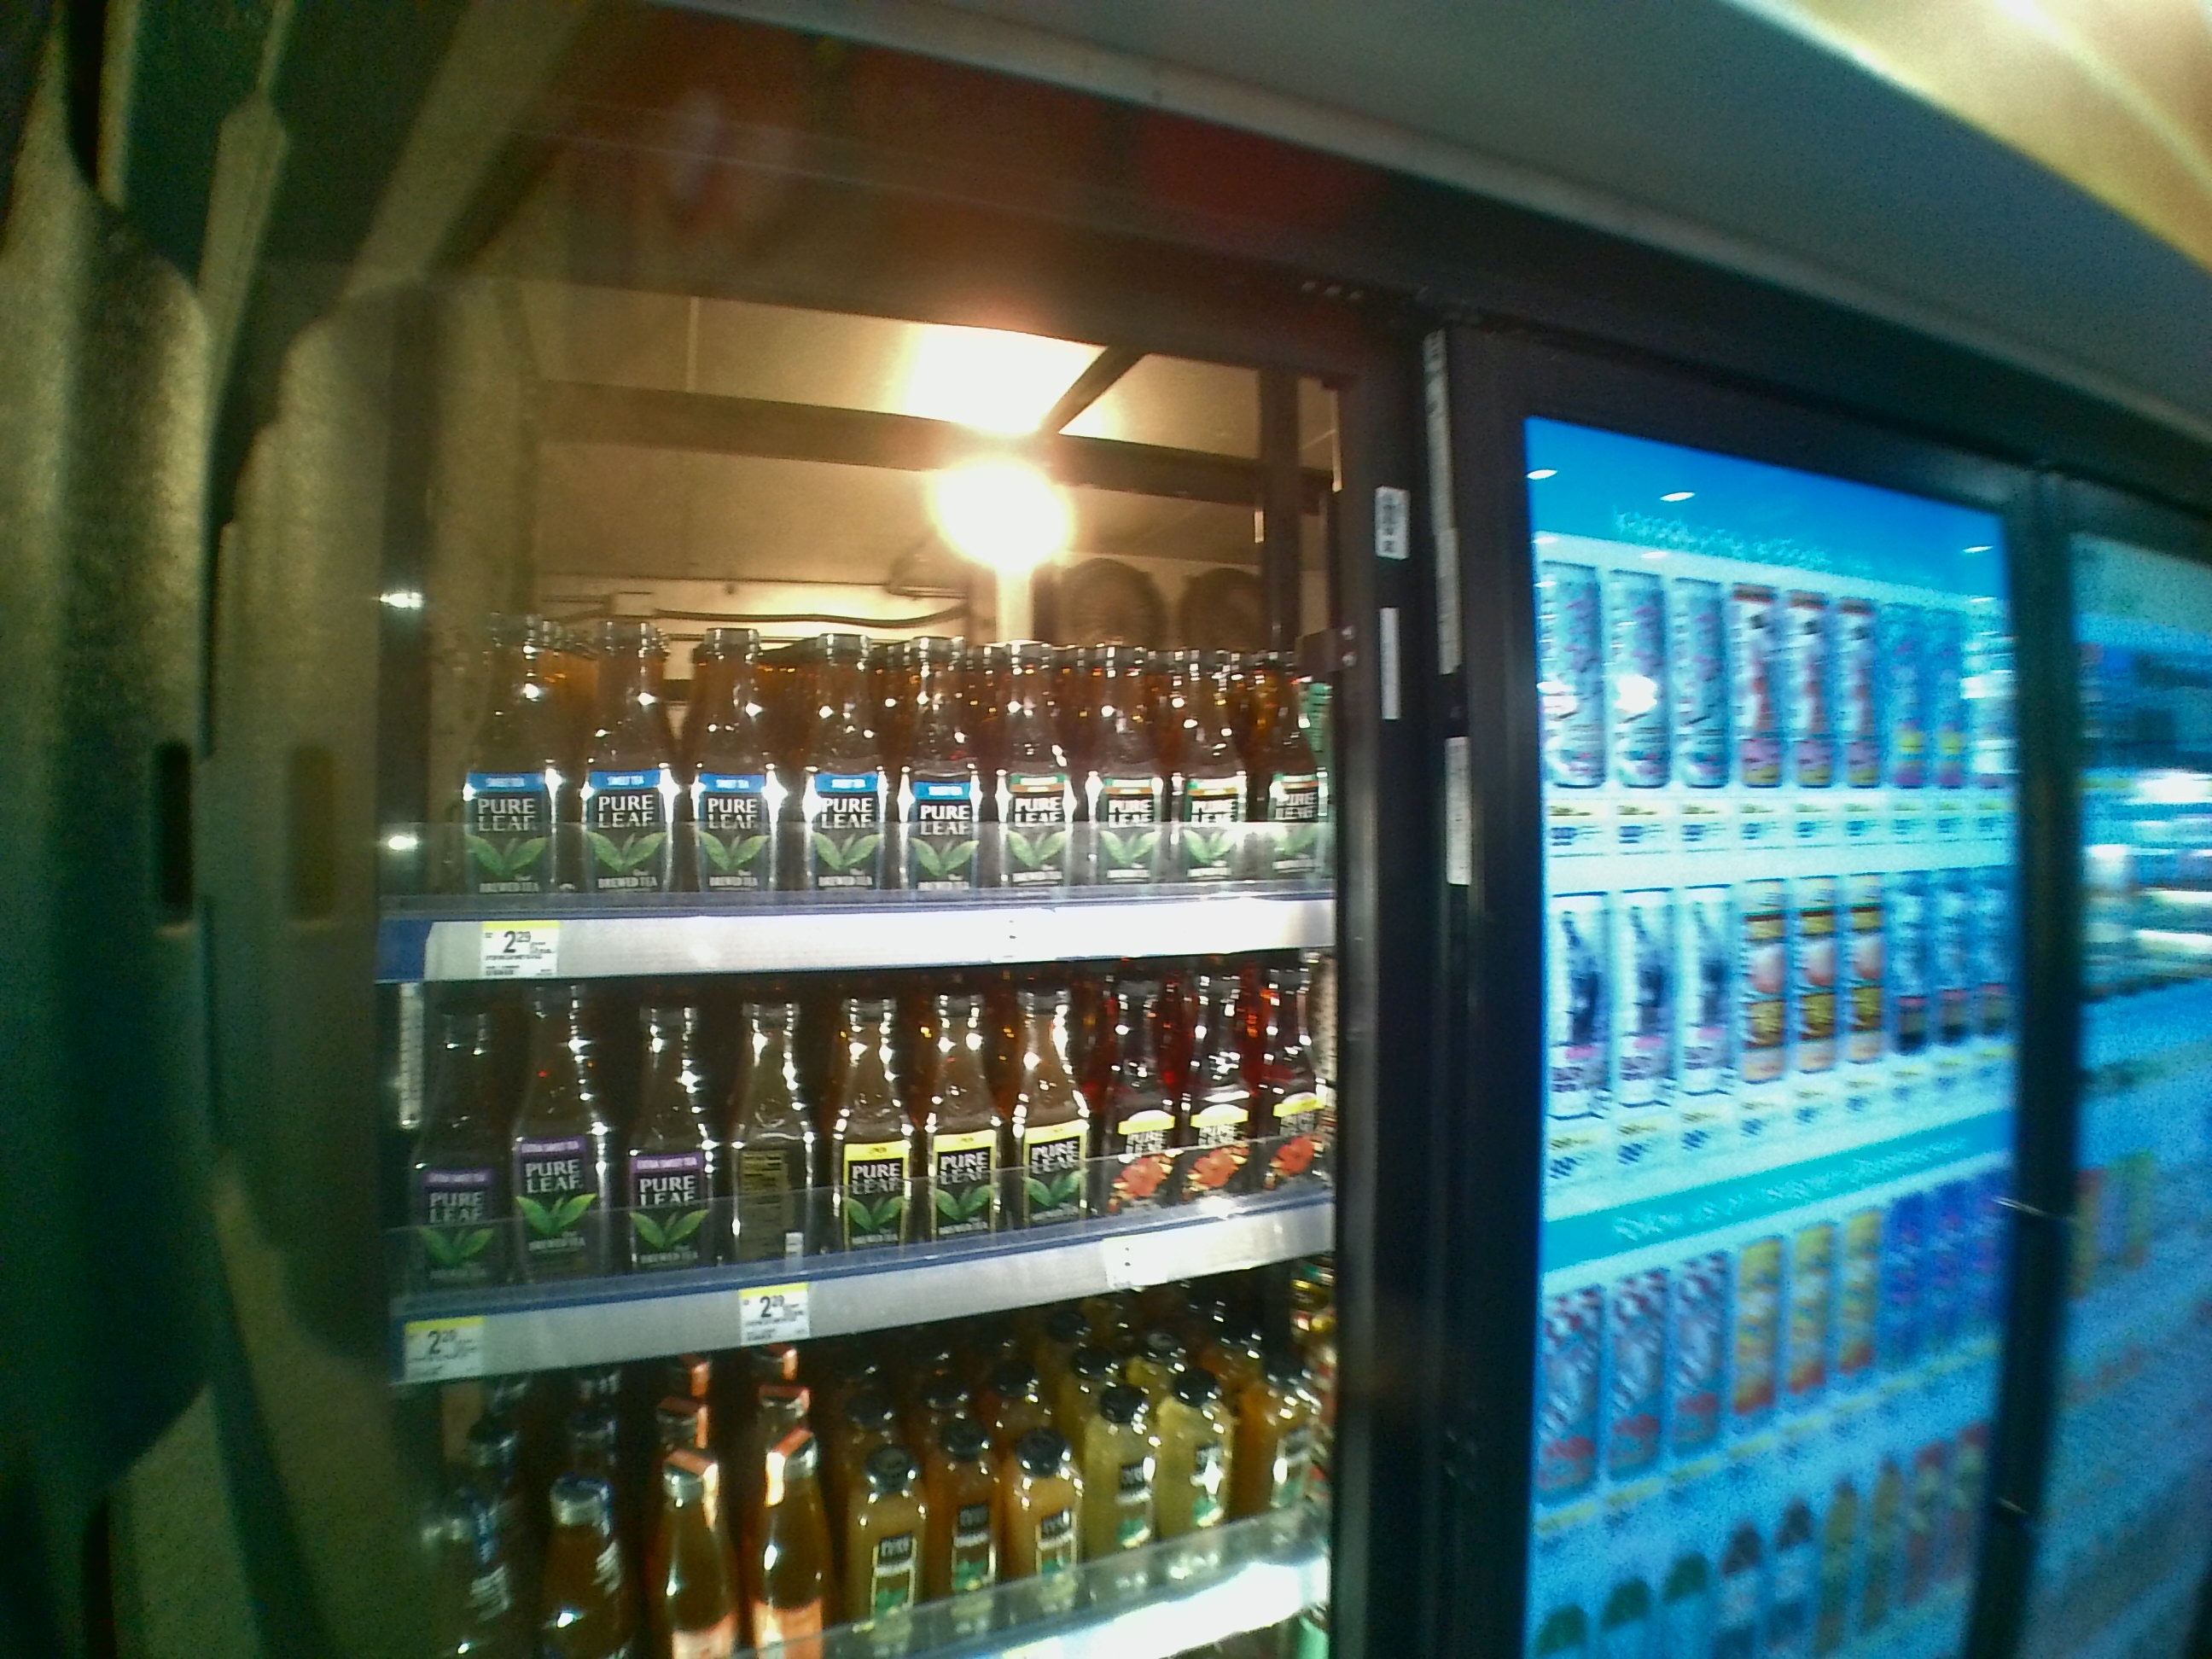shelf: (374, 373, 1338, 985), (381, 1000, 1348, 1377)
